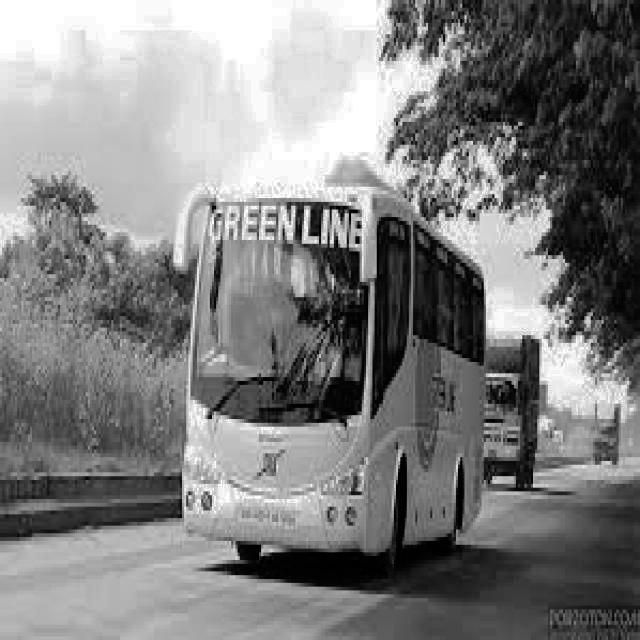Bus: (168, 118, 492, 608)
